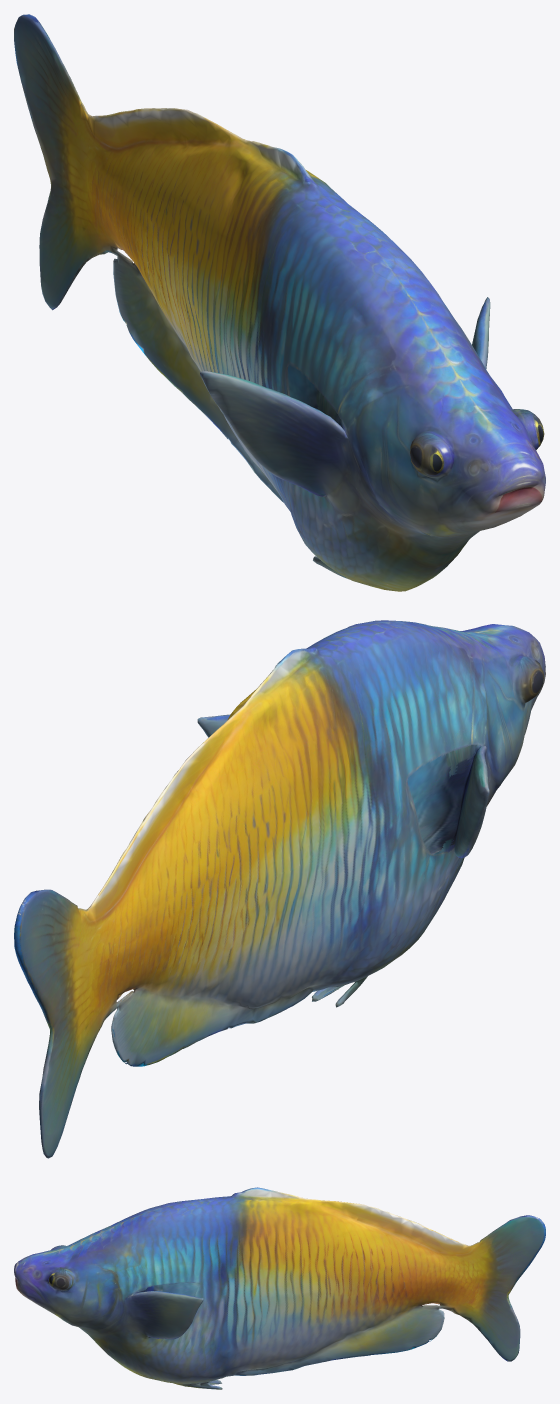
File: boesemani_0604070259_texture.glb
The picture shows the model from 3 angles, top to bottom: view 1: azimuth 30°, elevation 25°; view 2: azimuth 150°, elevation 25°; view 3: azimuth 270°, elevation 25°; orthographic projection. The views are drawn at different scales.
Bounding box in the file's own units: 0.6627 × 0.8272 × 2.
1 material, 1 textured.
